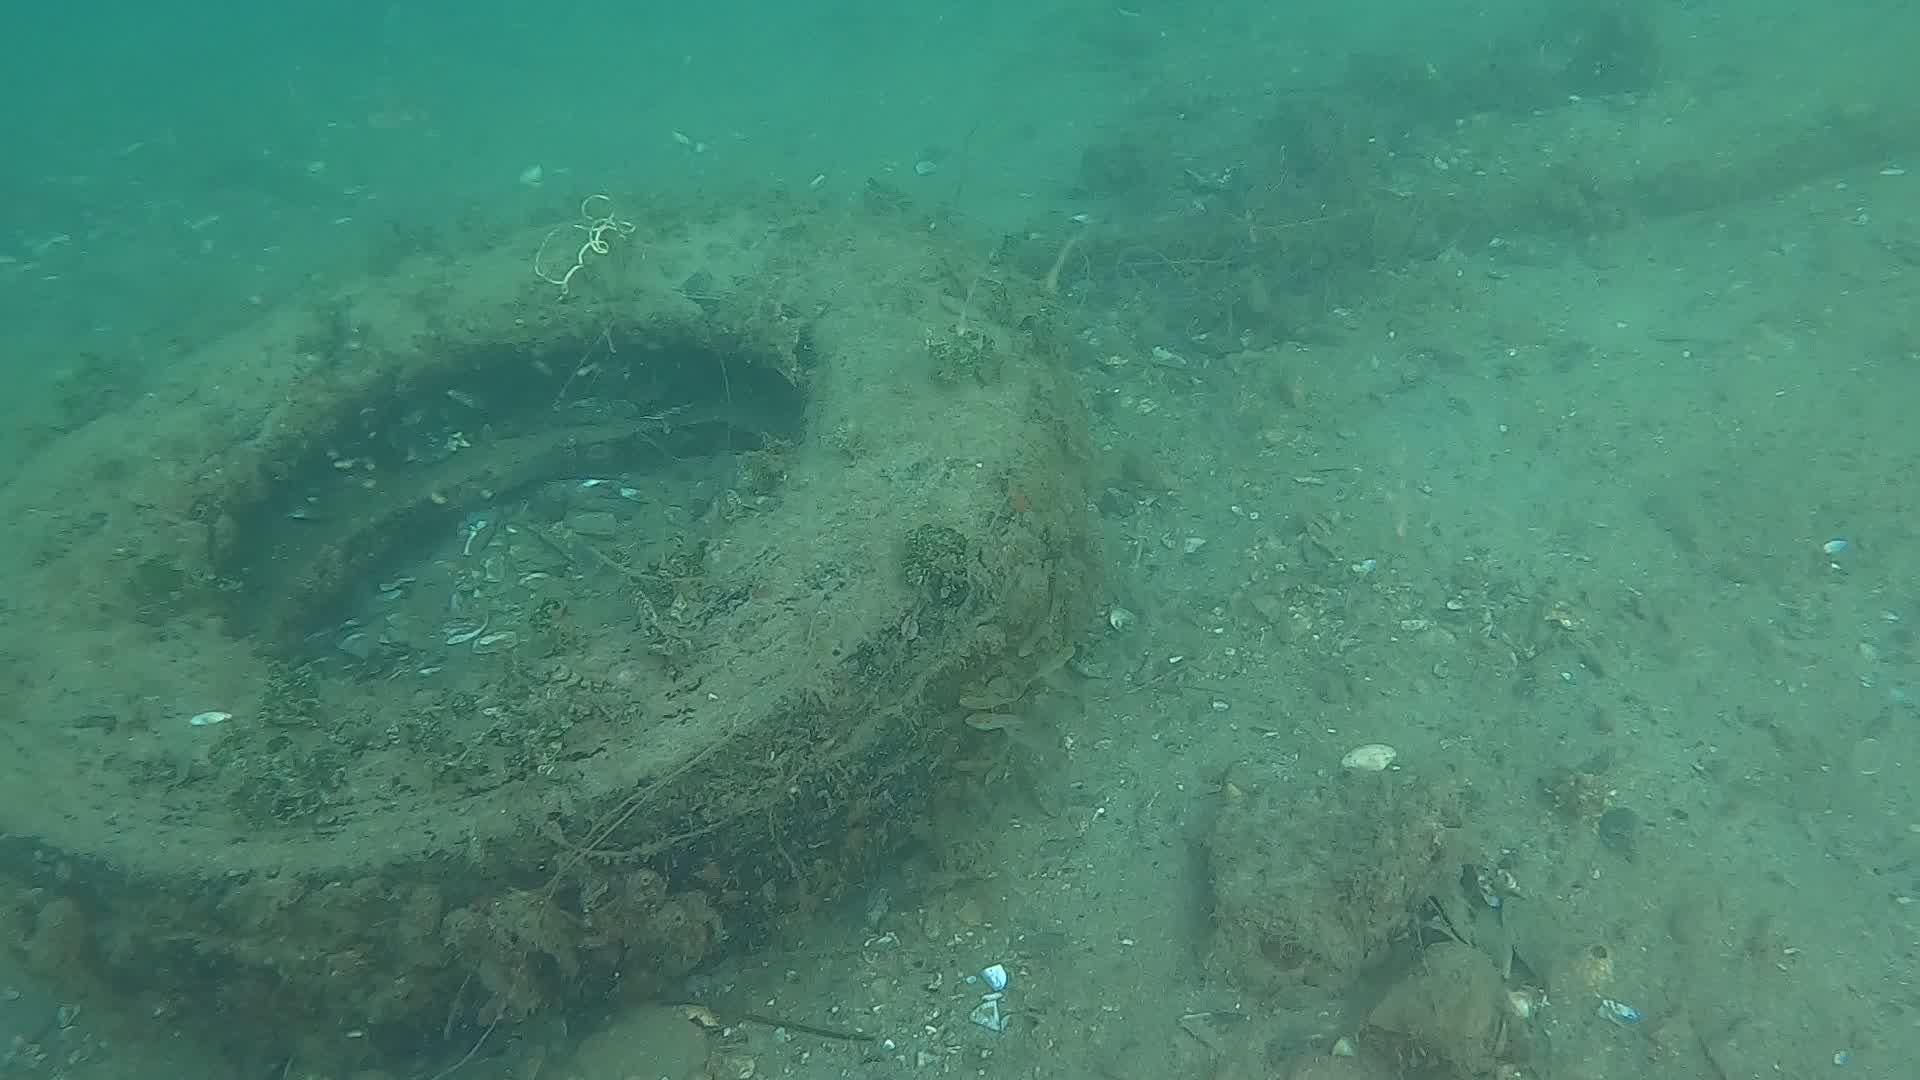tire: (0, 193, 1105, 1080)
